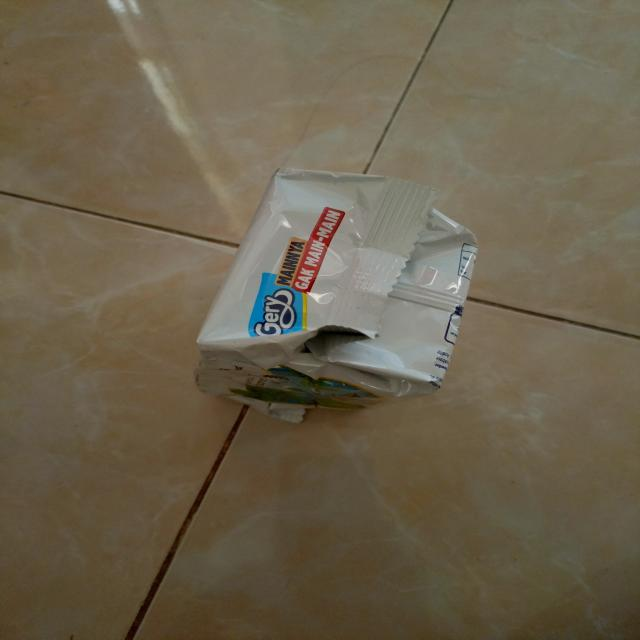gery-salut-coconut: (194, 165, 483, 425)
